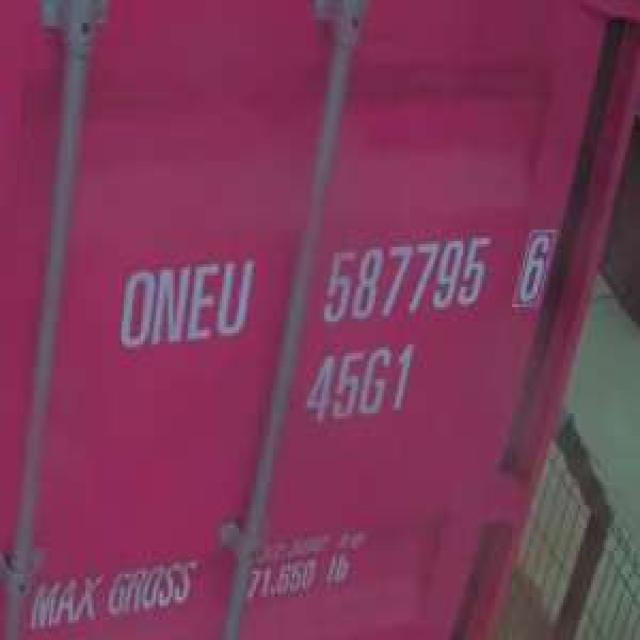dv: (514, 221, 555, 310)
owner: (109, 250, 258, 356)
serial: (316, 230, 488, 327)
size: (303, 339, 420, 422)
